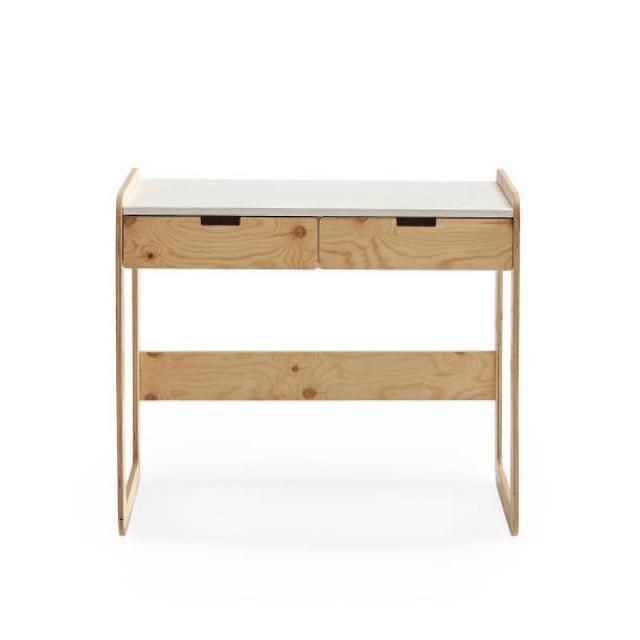table: (114, 167, 521, 537)
